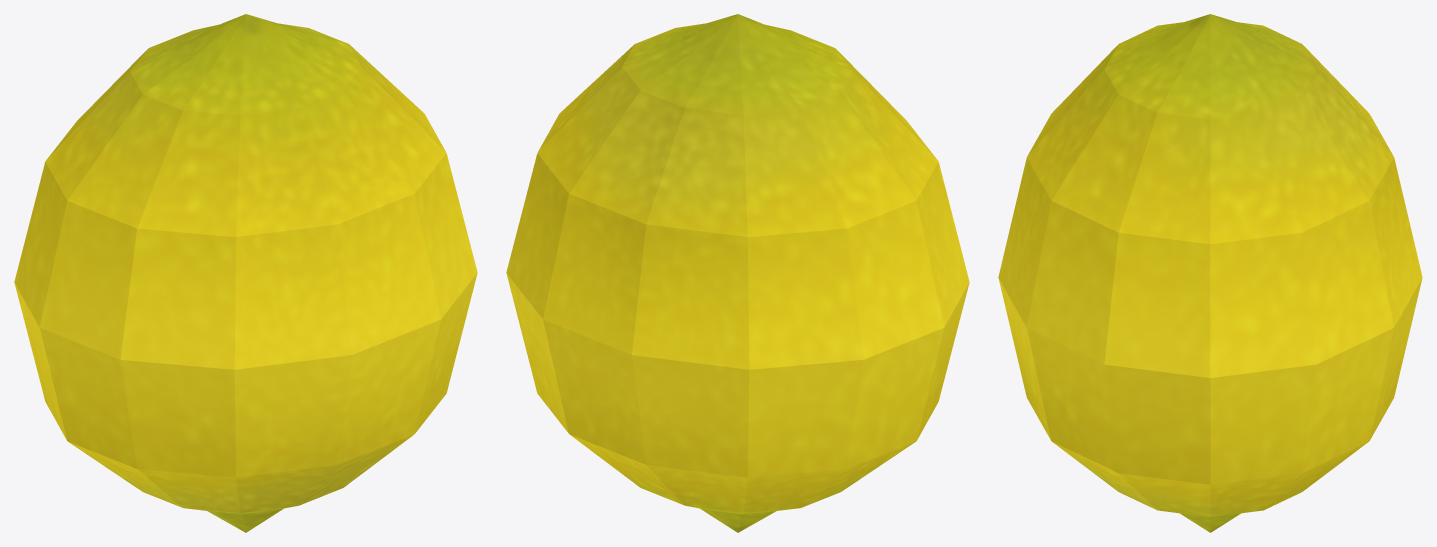
File: lemon.gltf
3 renders of one model, left to right at view 1: azimuth 30°, elevation 25°; view 2: azimuth 150°, elevation 25°; view 3: azimuth 270°, elevation 25°, orthographic.
Parts seen in each view (by area): view 1: fruis_and_vegetables.031; view 2: fruis_and_vegetables.031; view 3: fruis_and_vegetables.031.
Part boxes in pixels (bbox=[...]): fruis_and_vegetables.031: bbox=[14, 14, 477, 532]; fruis_and_vegetables.031: bbox=[506, 14, 969, 532]; fruis_and_vegetables.031: bbox=[998, 14, 1422, 532].
Size of the model in its own units: 0.0805 by 0.0968 by 0.0717.
Materials: 1 (1 with a texture image).
